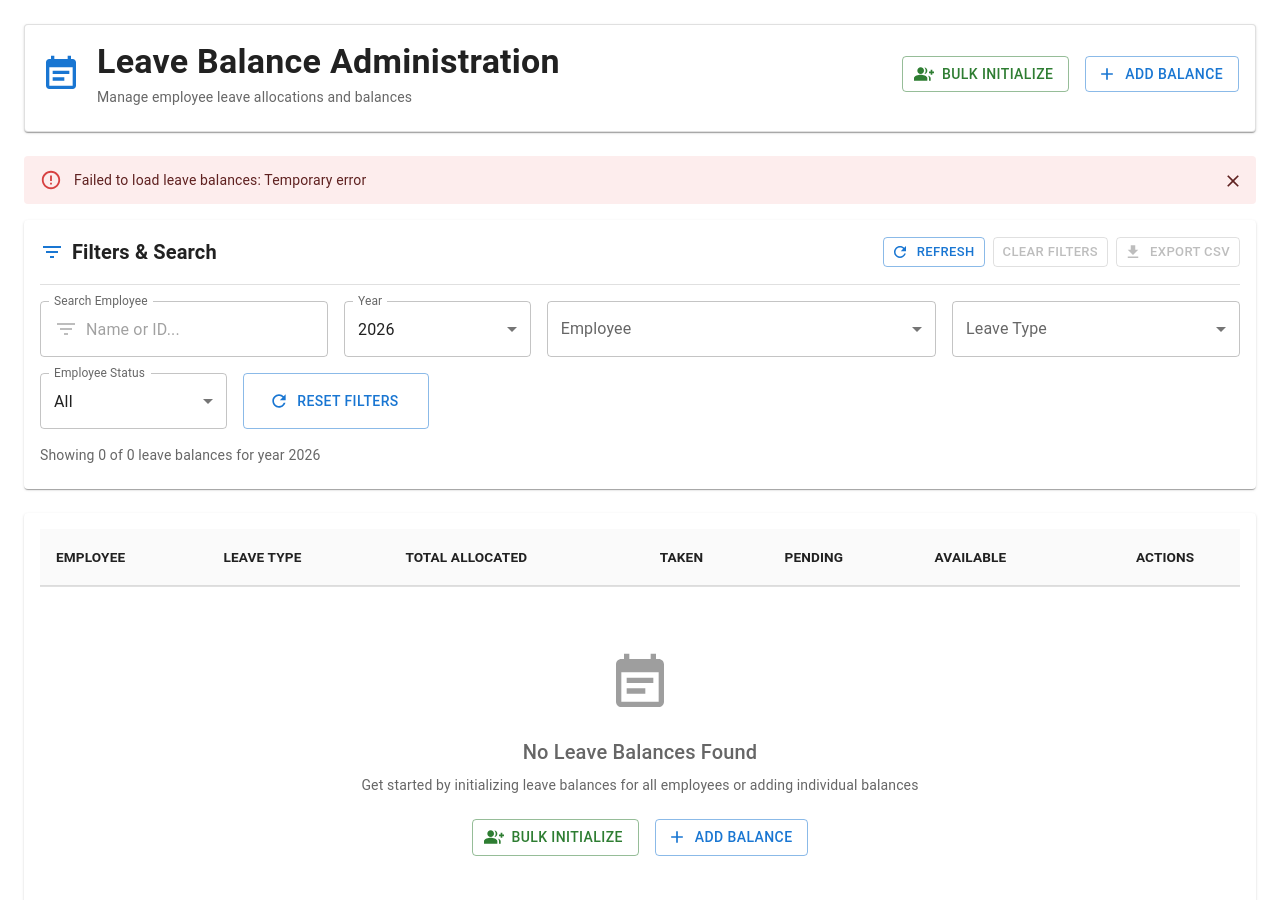
Test: LeaveBalanceModern › Error Handling › dismisses error alert
Expected: the text "Failed to load leave balances: Temporary error" is shown, [74,172,366,188]
What coordinates should you click on to do the following:
click the button named "close"
I would click on:
 (1233, 181)
Its box is [1218,166,1248,196].
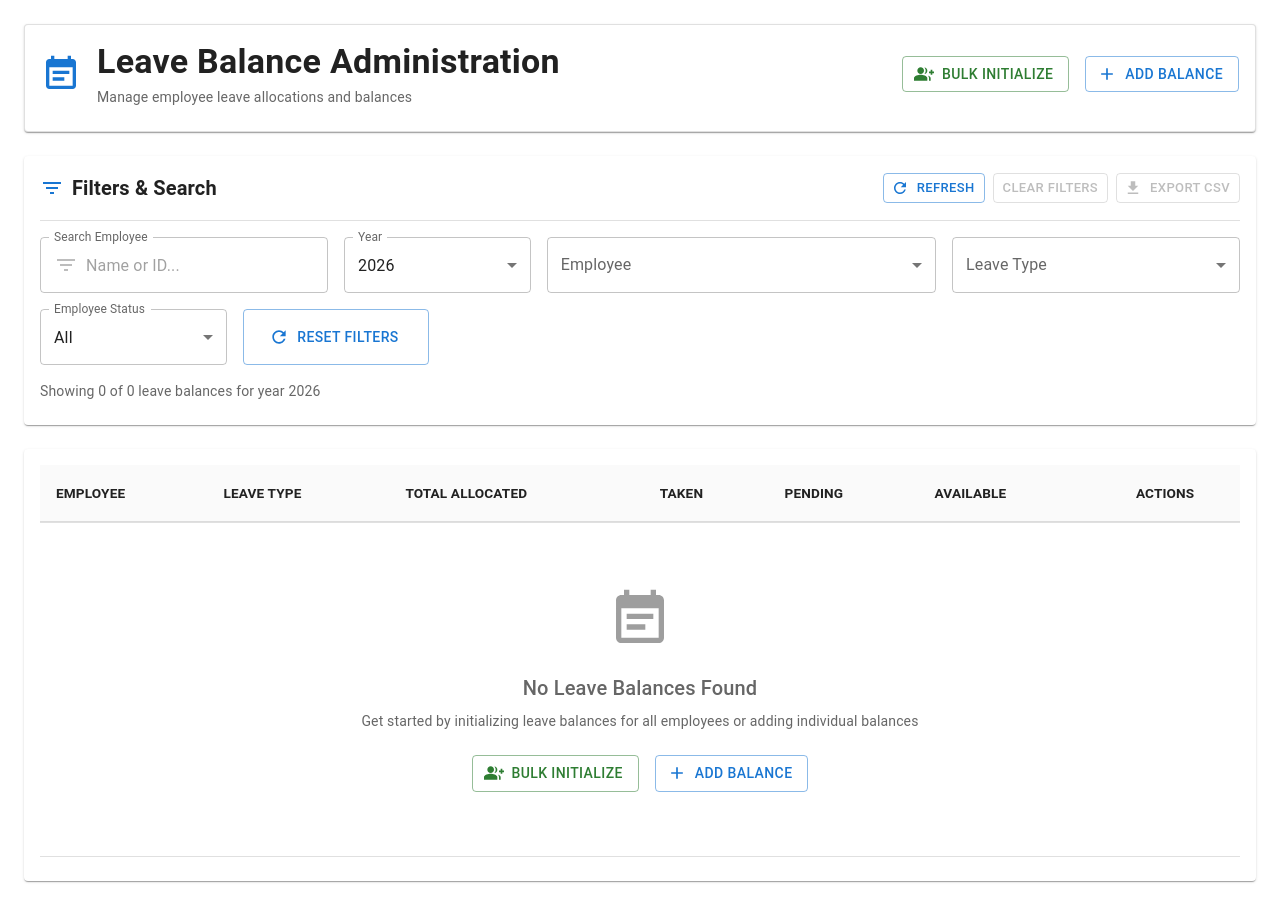
Now the text "Failed to load leave balances" is gone
